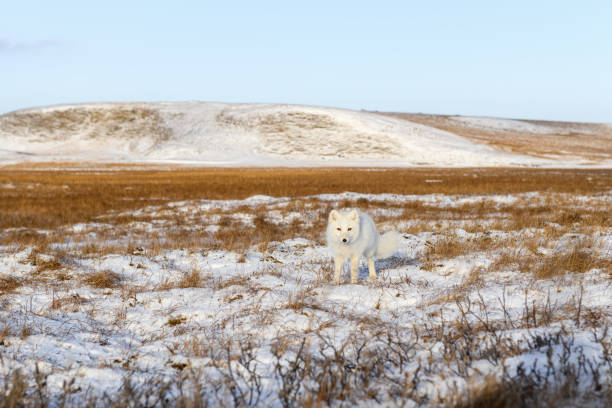arcticfox: (332, 215, 357, 247)
